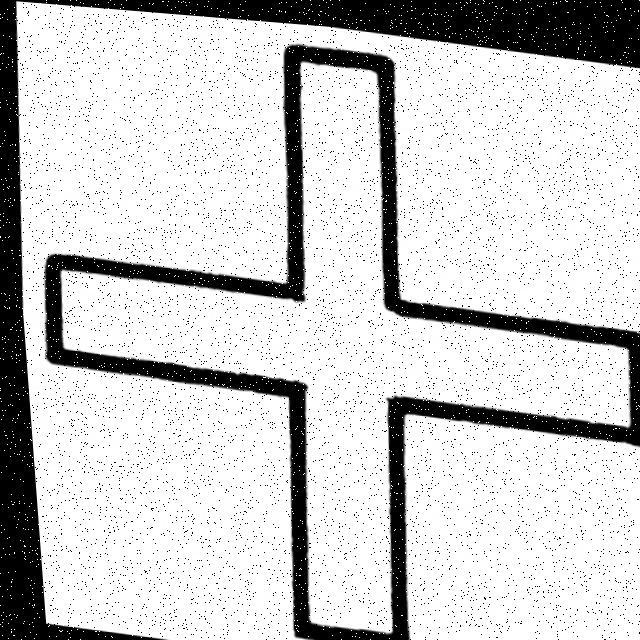cross: (31, 28, 640, 640)
